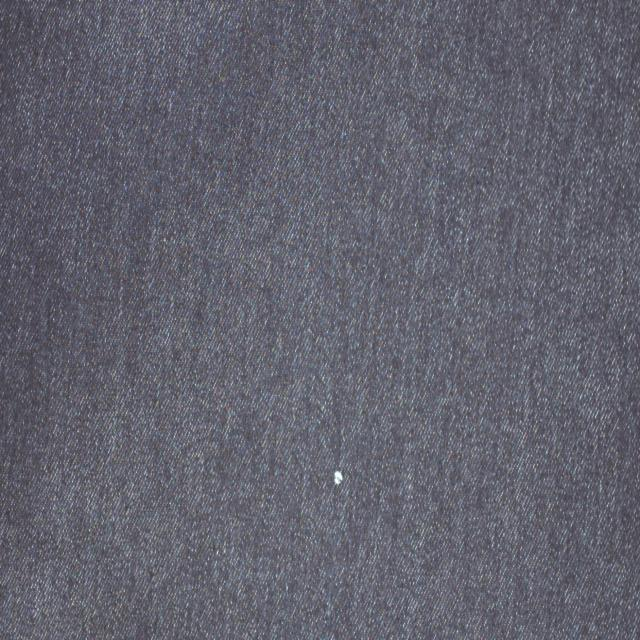Knot: (334, 471, 344, 486)
